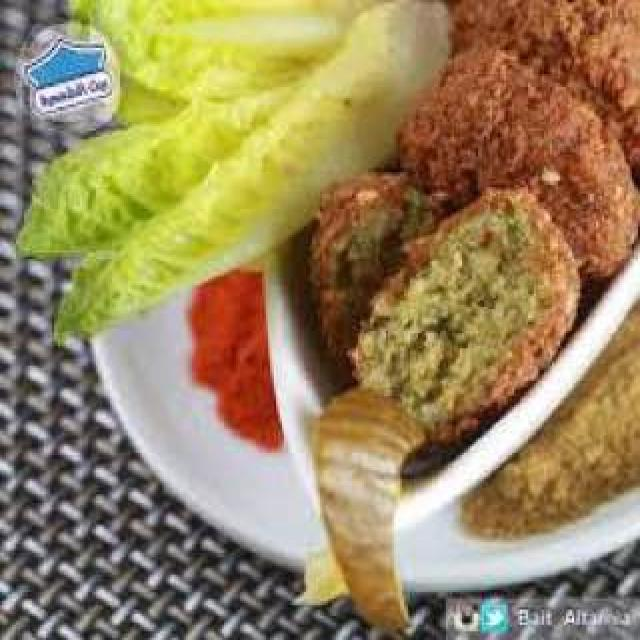taamia: (322, 0, 640, 438)
